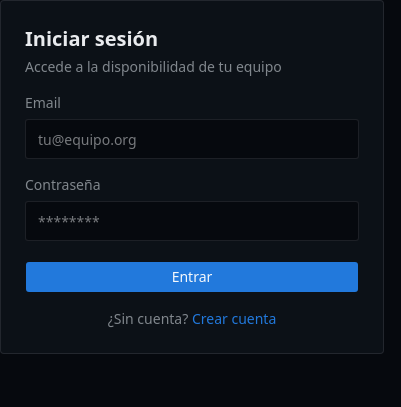
it: LoginForm › shows auth errors
The width and height of the screenshot is (401, 407).
Clear the field with placeholder "tu@equipo.org" at point(192, 139), box [25,119,359,159]
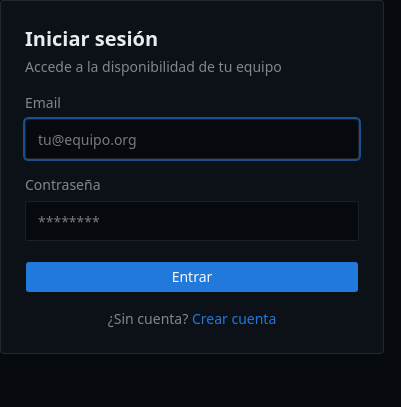
Clear the password field with placeholder "********" at point(192, 221), box [25,201,359,241]
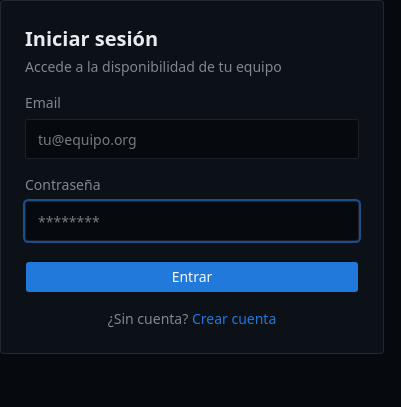
Type "x@y.com" into the field with placeholder "tu@equipo.org".
click(192, 139); type("x@y.com")  # box [25,119,359,159]
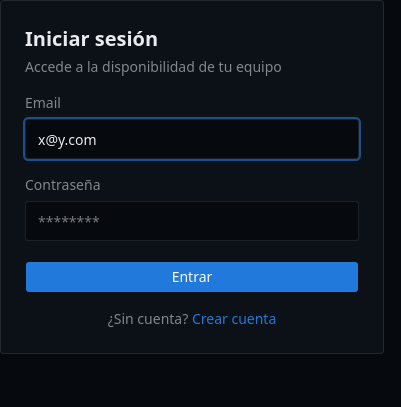
Type "bad" into the password field with placeholder "********".
click(192, 221); type("bad")  # box [25,201,359,241]
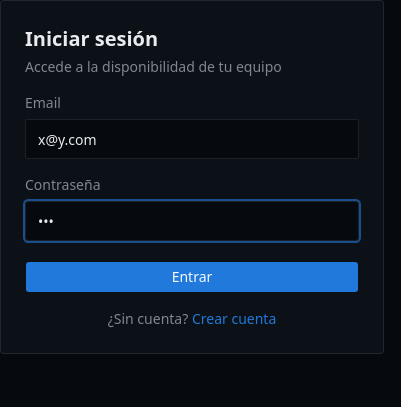
Click the button "Entrar".
click(192, 277)  # box [25,261,359,293]
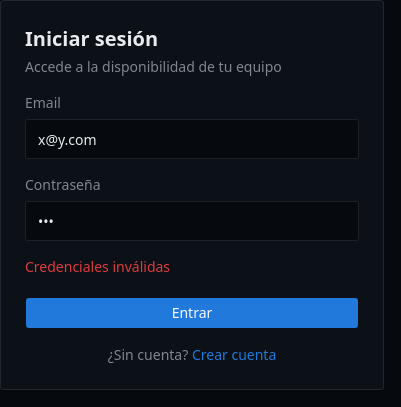
Result: the text "Credenciales inválidas" is shown at [25,257,170,276]
